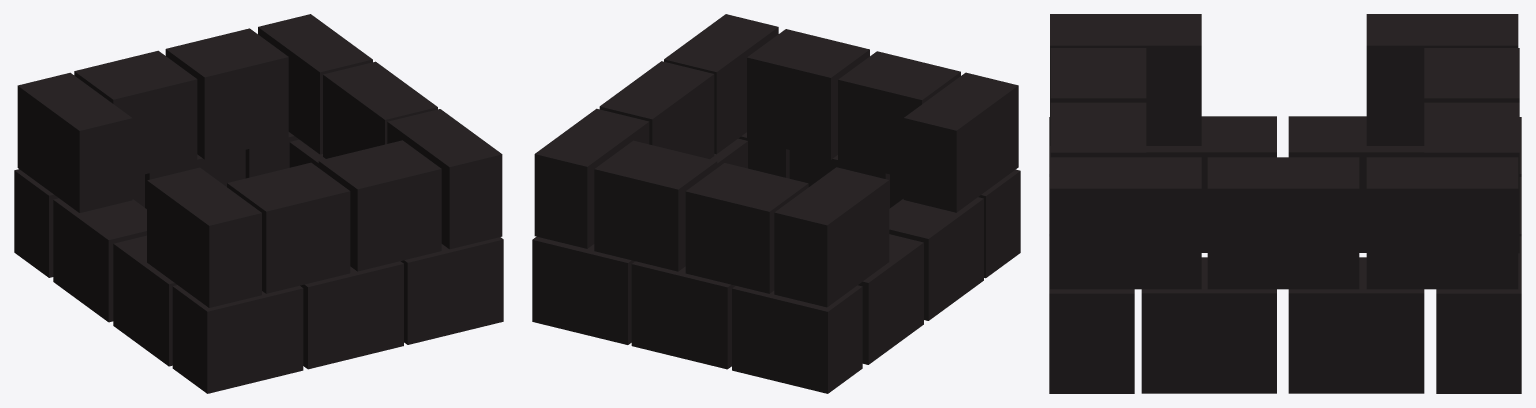
Rendered from brickSmoker.fbx.
3 renders of one model, left to right at view 1: azimuth 30°, elevation 25°; view 2: azimuth 150°, elevation 25°; view 3: azimuth 270°, elevation 25°, orthographic. The views are drawn at different scales.
Parts seen in each view (by area): view 1: brickSmoker; view 2: brickSmoker; view 3: brickSmoker.
Part boxes in pixels (<box>): brickSmoker: <box>14,14,503,393</box>; brickSmoker: <box>532,14,1020,393</box>; brickSmoker: <box>1049,14,1521,393</box>.
Size of the model in its own units: 47.19 by 25.41 by 53.16.
1 material, 1 textured.
